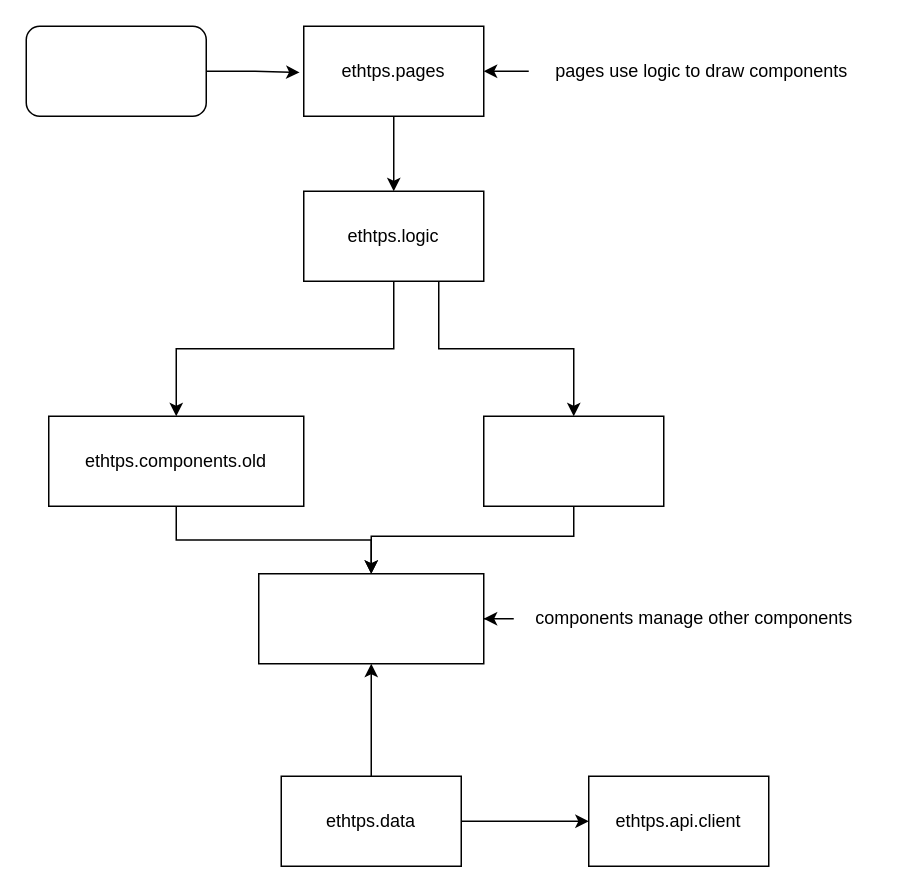
Image size: 900x893. Some labels were removed from this diagram. The shapes that lost their labels are listed below. From the top down, each one's centre as x and y in pixels, then its label:
At point (115, 70): "ethtps.frontend.v2".
At point (573, 460): "ethtps.components".
At point (370, 618): "ethtps.components.utils".
